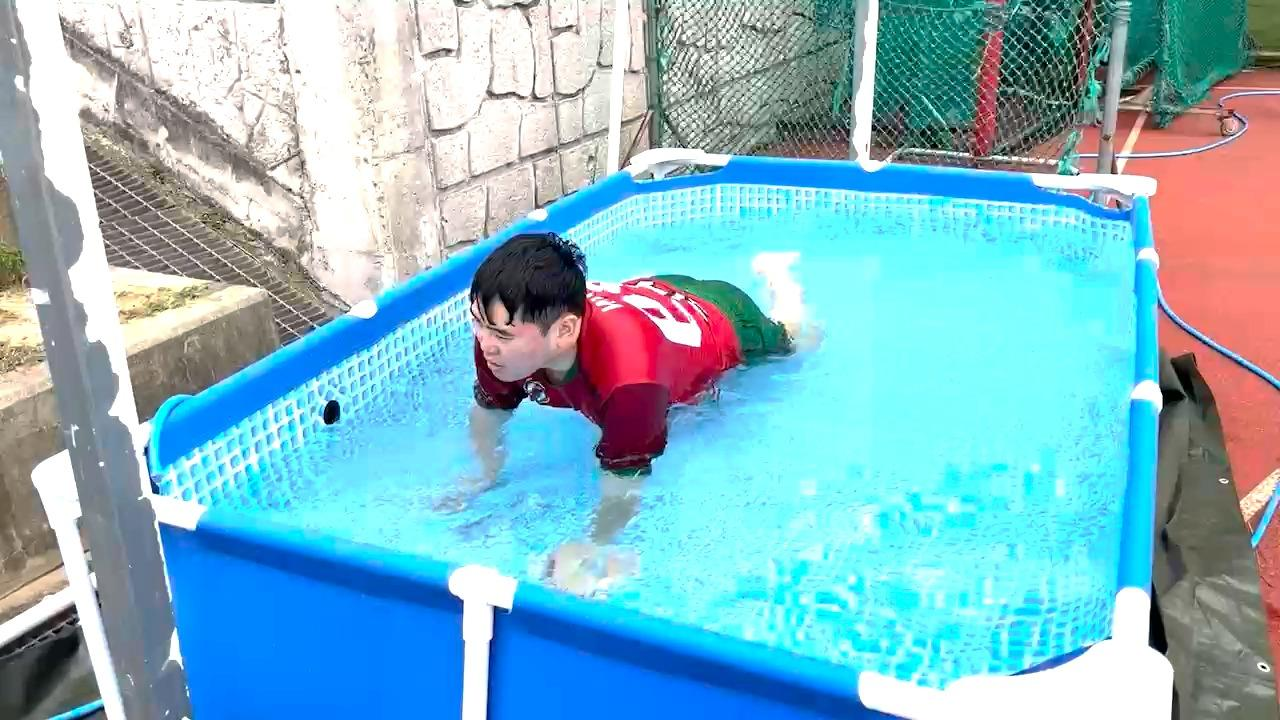Swimming: (414, 145, 923, 528)
